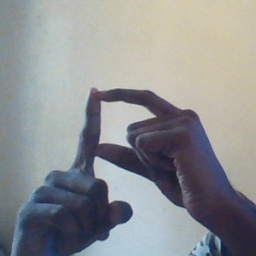D: (61, 81, 188, 198)
